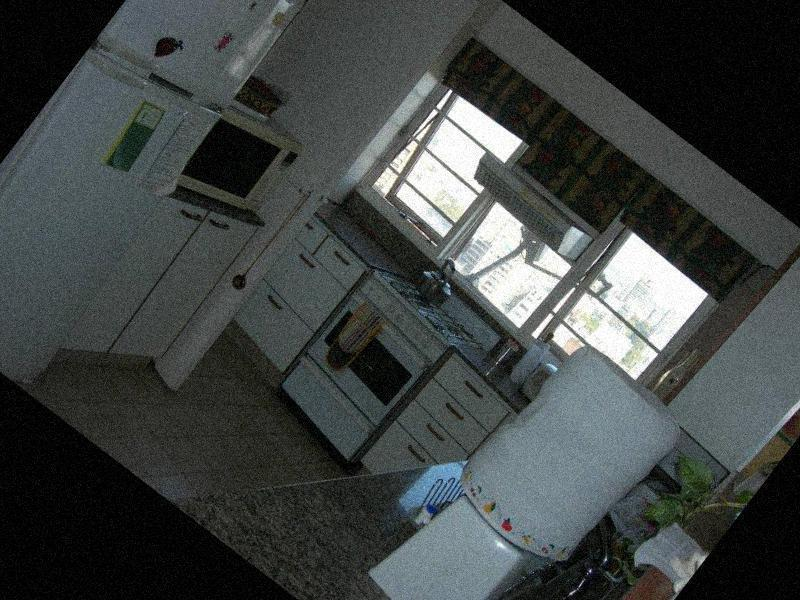Electrodomestico: (0, 0, 310, 380), (270, 266, 456, 465)
